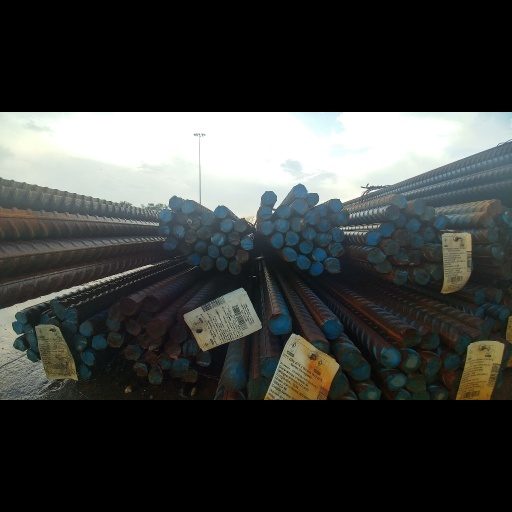dipstick: (323, 371, 349, 396), (268, 311, 292, 335), (323, 318, 345, 341), (339, 346, 360, 370), (221, 370, 245, 390), (307, 338, 332, 357), (260, 355, 282, 376), (423, 353, 442, 376), (146, 318, 166, 339), (421, 329, 441, 350), (452, 334, 473, 354), (348, 361, 370, 380), (400, 328, 421, 347), (402, 351, 421, 372), (366, 247, 388, 265), (381, 348, 401, 367), (169, 324, 189, 343), (407, 374, 426, 393), (387, 372, 407, 390), (390, 191, 411, 208), (358, 385, 381, 400), (443, 353, 461, 372), (120, 295, 137, 315), (123, 319, 142, 336), (291, 182, 308, 200), (325, 257, 342, 275), (90, 335, 109, 351), (485, 199, 504, 215), (413, 268, 430, 285), (393, 248, 410, 265), (147, 367, 164, 384), (64, 307, 80, 325), (105, 317, 123, 333), (79, 320, 94, 339), (143, 297, 160, 313), (395, 230, 412, 246), (80, 350, 96, 367), (181, 367, 199, 382), (106, 334, 125, 348), (142, 351, 158, 367), (165, 342, 181, 358), (172, 358, 190, 372), (73, 333, 87, 351), (260, 191, 279, 204), (363, 231, 382, 244), (167, 195, 183, 210), (293, 199, 308, 215), (259, 220, 275, 235), (283, 247, 298, 263), (220, 244, 236, 259), (378, 221, 394, 236), (384, 240, 400, 255), (376, 258, 392, 273), (409, 233, 424, 249), (234, 248, 250, 263), (478, 212, 494, 227), (212, 205, 229, 219), (412, 198, 426, 215), (197, 350, 211, 367), (331, 227, 346, 242), (285, 231, 300, 246), (210, 231, 225, 246), (434, 214, 449, 229), (174, 210, 189, 225), (310, 261, 325, 276), (126, 345, 141, 360), (158, 208, 172, 224), (270, 232, 284, 248), (274, 219, 290, 233), (406, 218, 422, 232), (394, 269, 408, 285), (312, 246, 326, 262), (77, 366, 94, 379), (182, 198, 196, 213), (241, 236, 255, 251), (233, 217, 247, 232), (258, 205, 273, 219), (277, 204, 291, 219), (297, 255, 311, 270), (386, 205, 401, 219), (421, 205, 435, 220), (188, 214, 202, 229), (306, 210, 320, 225), (302, 226, 317, 240), (432, 265, 446, 280), (11, 320, 25, 335), (490, 245, 505, 259), (423, 226, 436, 242), (134, 362, 147, 378), (486, 226, 499, 242), (430, 245, 442, 262), (183, 229, 197, 243), (328, 198, 343, 211), (299, 241, 314, 254), (220, 218, 233, 233), (200, 256, 213, 271), (55, 303, 67, 319), (201, 212, 215, 225), (157, 224, 171, 237), (187, 253, 201, 266), (15, 336, 28, 350), (473, 290, 486, 304), (433, 390, 451, 400), (162, 238, 178, 249), (229, 260, 240, 275), (307, 192, 319, 205), (172, 225, 185, 237), (208, 245, 220, 258), (14, 312, 28, 323), (498, 307, 509, 321), (26, 349, 38, 361), (493, 289, 502, 303), (478, 321, 489, 331), (38, 314, 49, 323)
